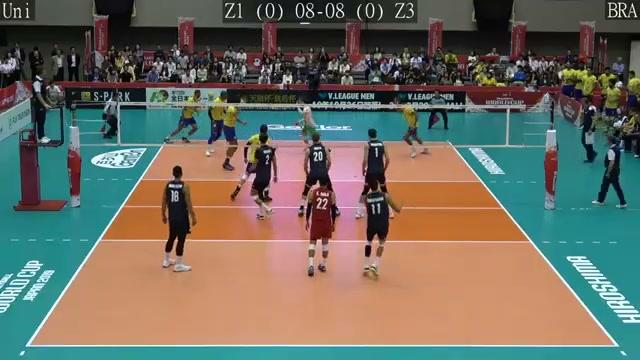ball: (223, 107, 239, 117)
